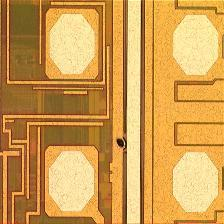PIQ PARTICLE: (113, 136, 129, 152)
